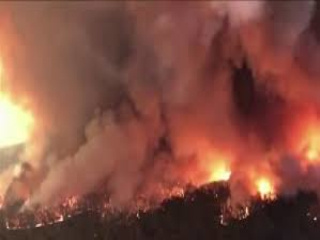fire: (256, 179, 277, 199), (211, 164, 230, 181), (302, 149, 320, 165)
smoke: (6, 11, 297, 204)
